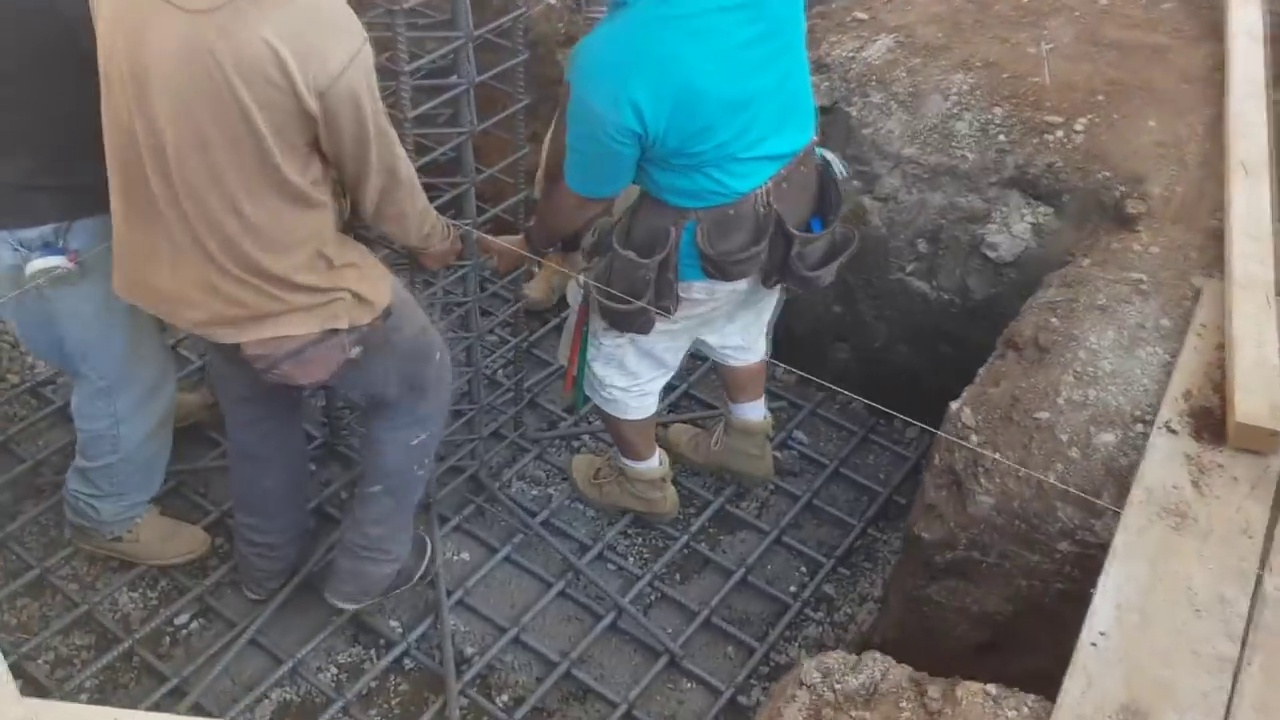person: (91, 3, 463, 609), (473, 0, 847, 520), (0, 5, 200, 570)
